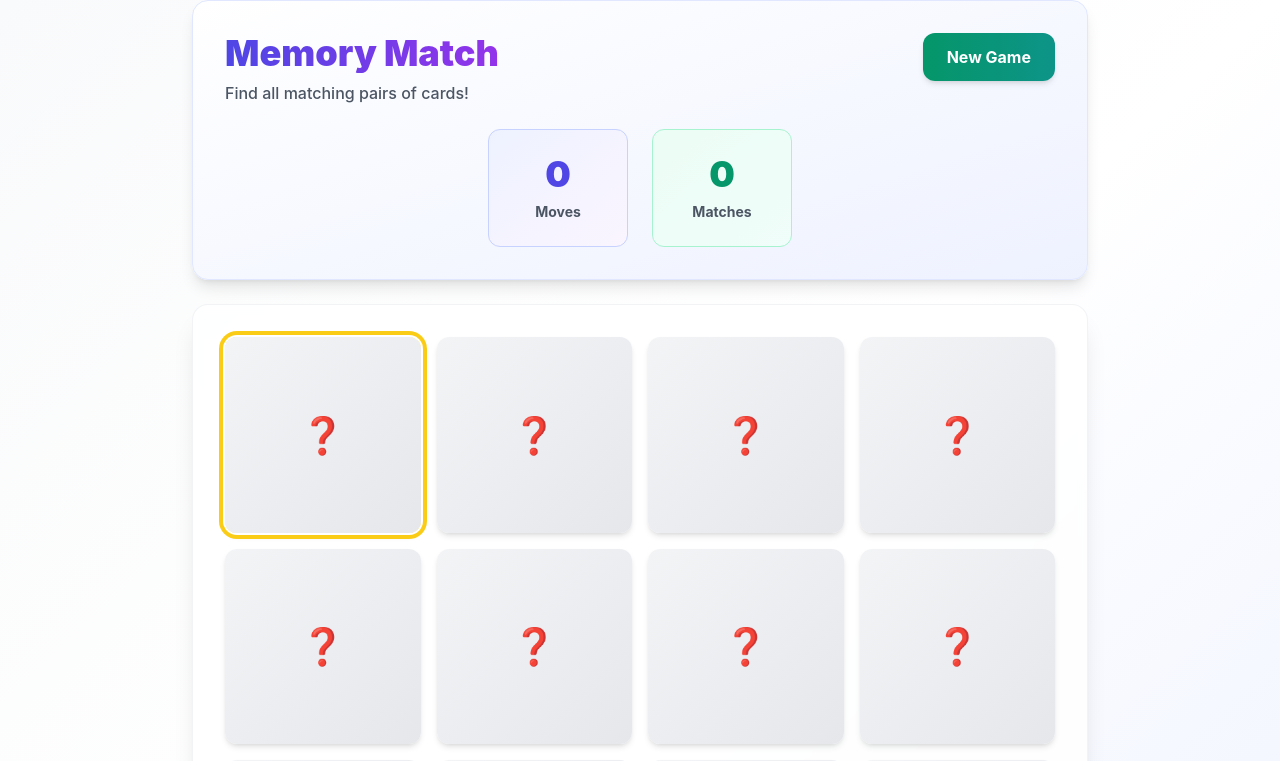
Scenario: MemoryMatch Game › Card Flipping › increments move counter when two cards are flipped
Click the 1st button "❓": click(323, 435) [225,337,420,532]
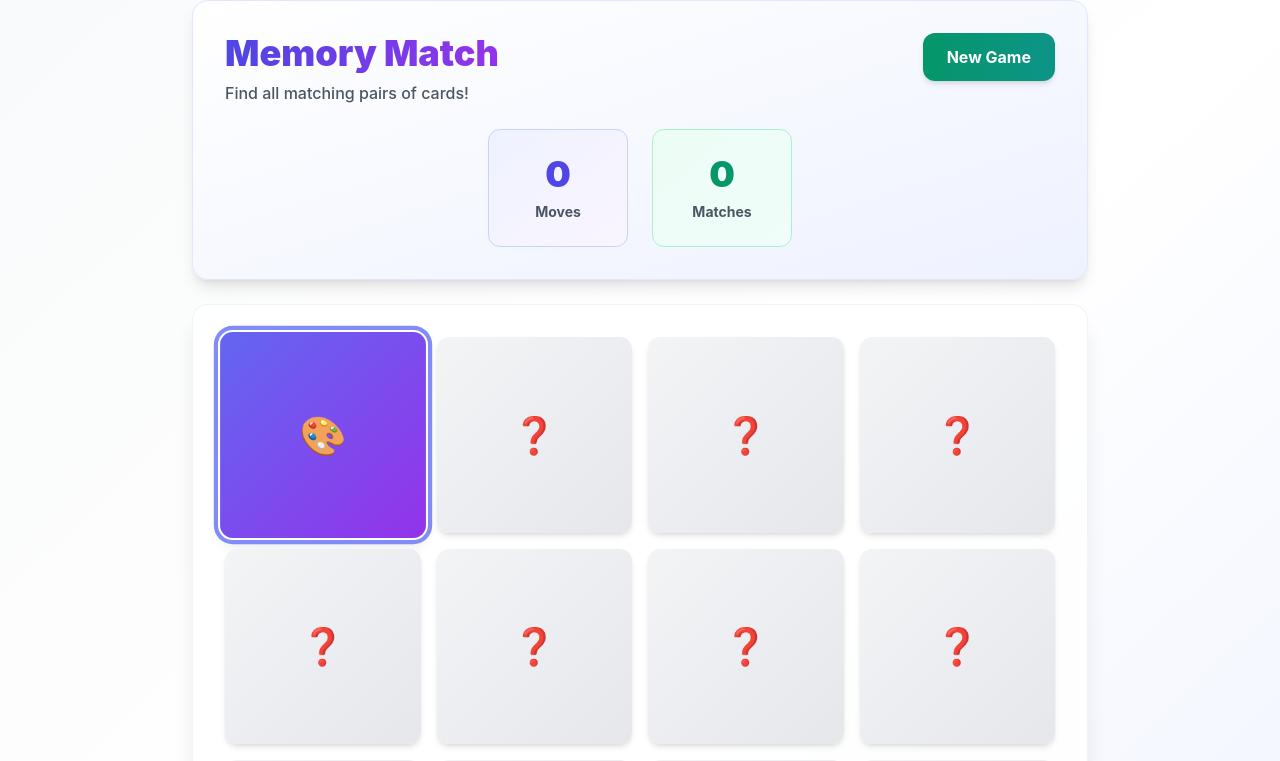
Click the 1st button "❓": click(534, 435) [436,337,632,532]
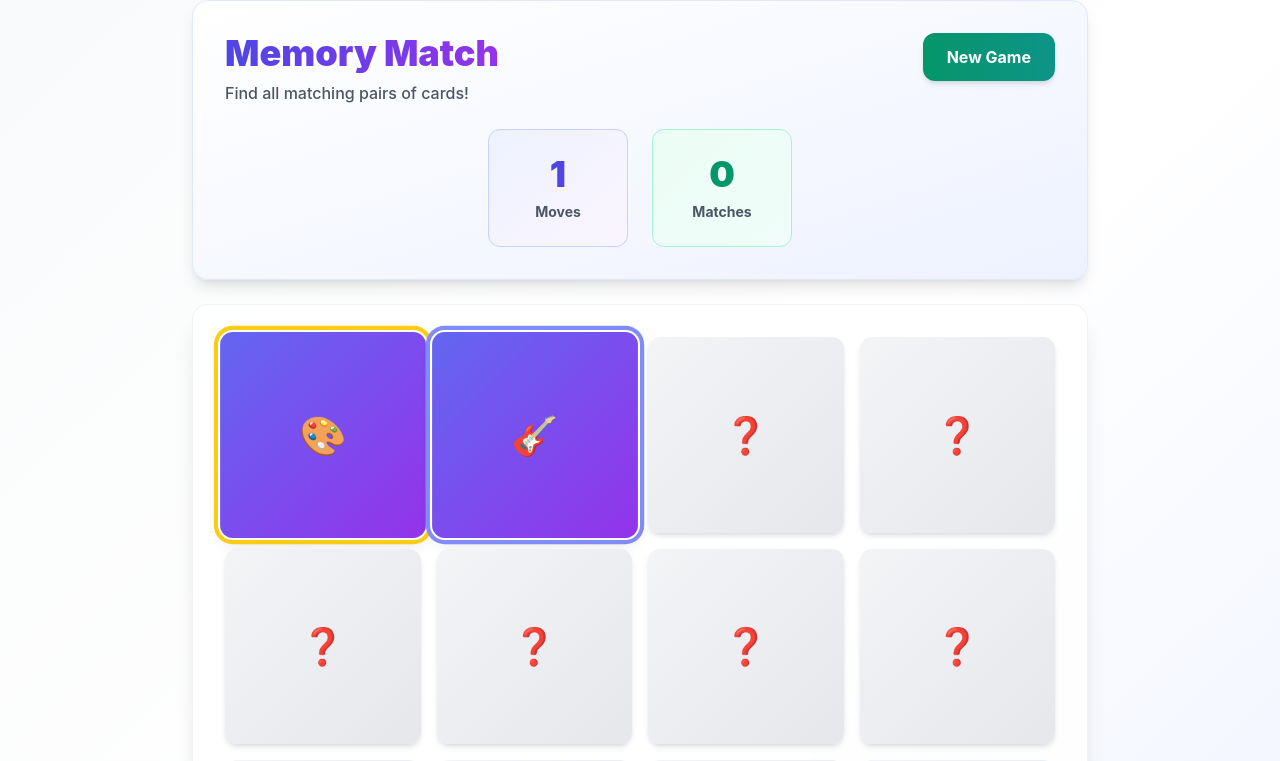
Expected: the text with test id "moves-count" reads "1", [550,152,566,196]
